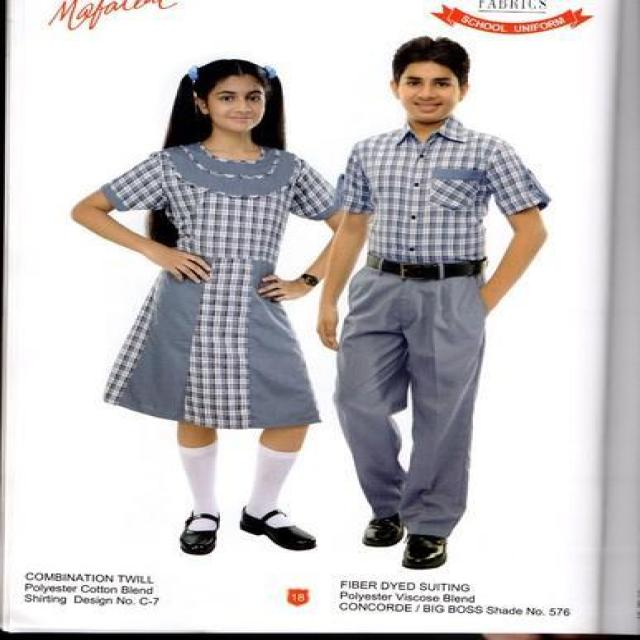child: (66, 56, 344, 566), (311, 32, 567, 580)
